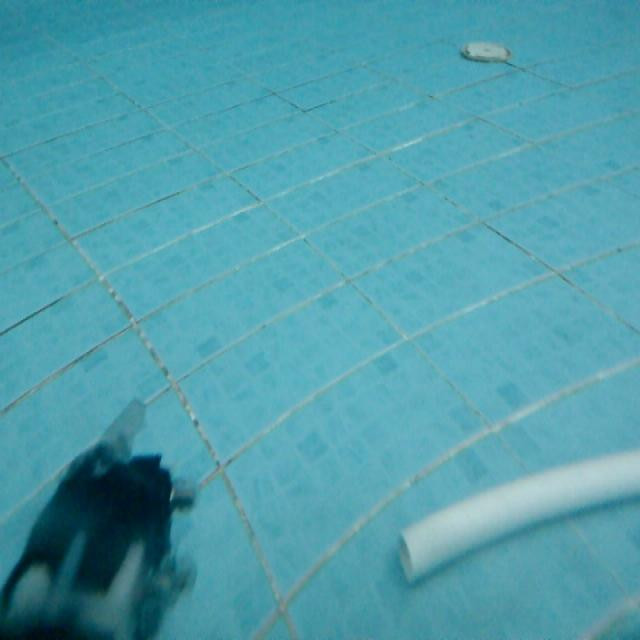Cube: (394, 440, 639, 587)
